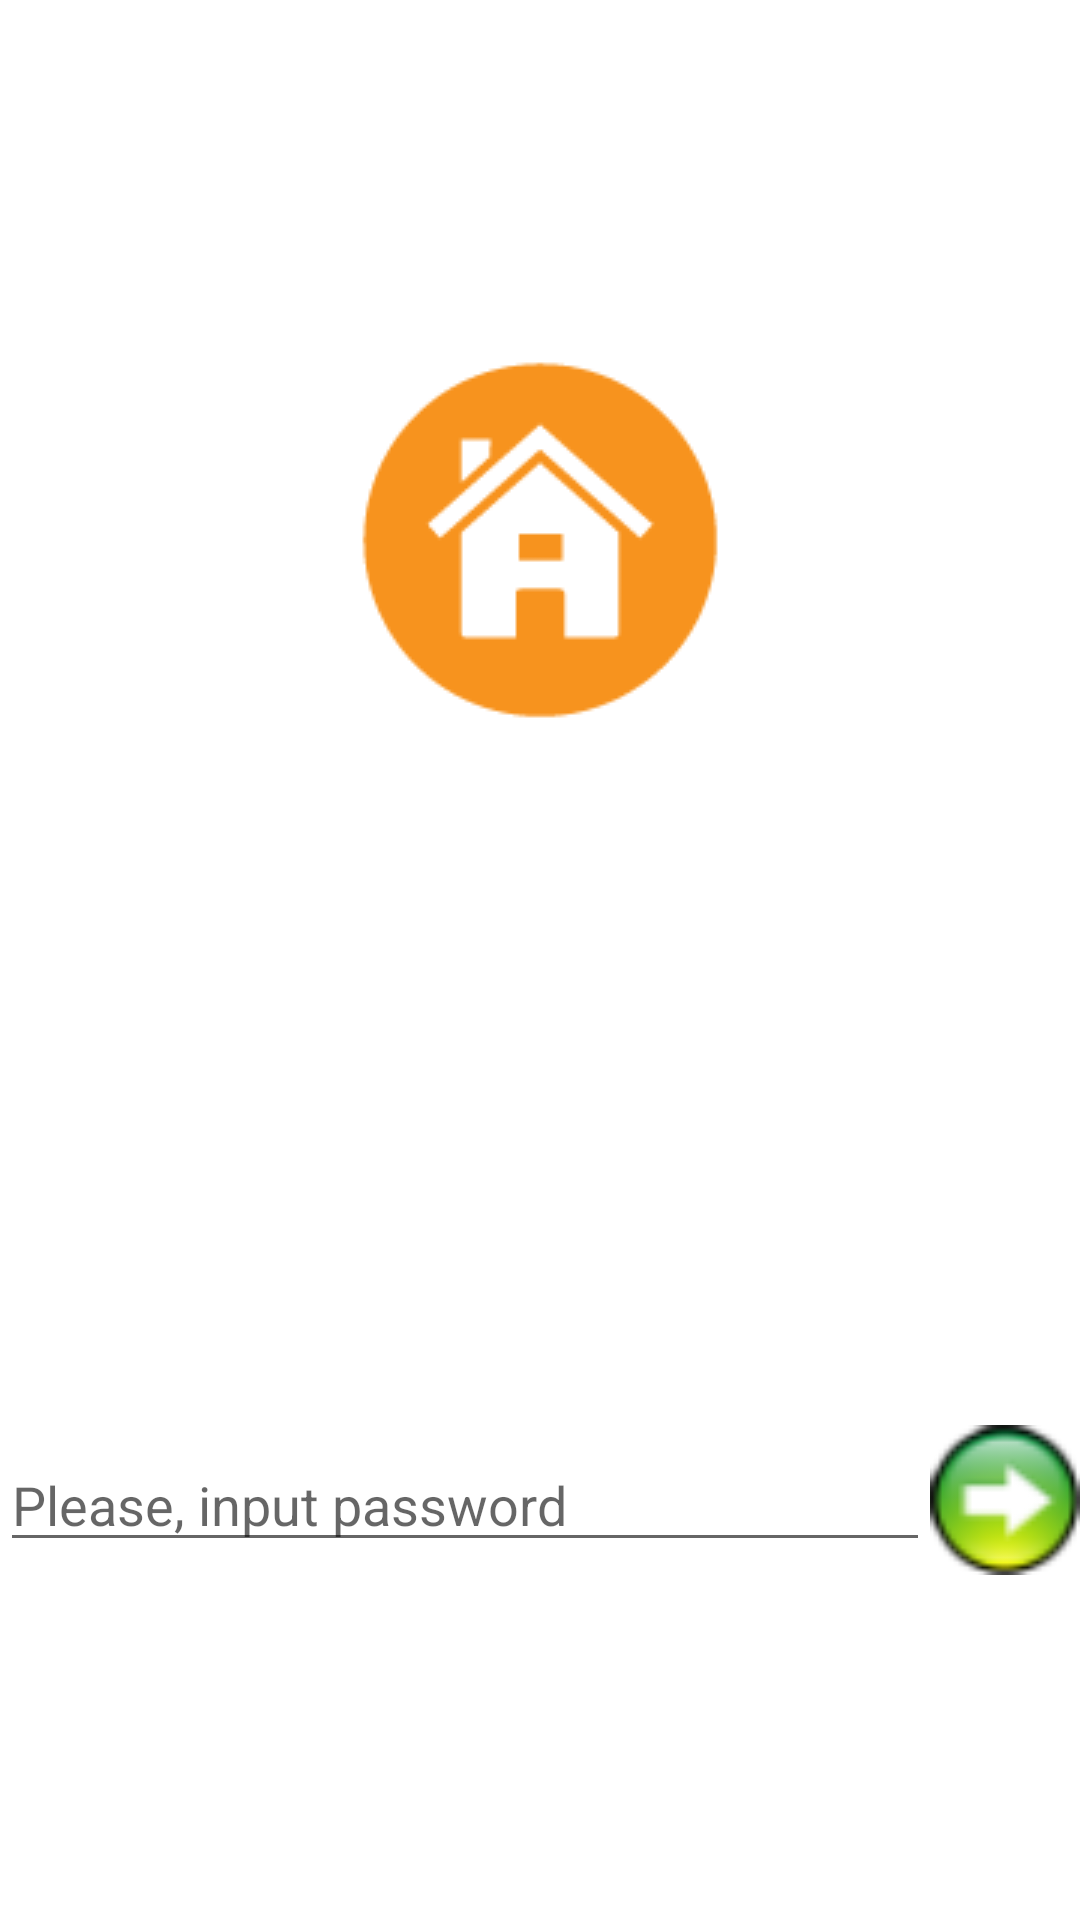

Where icons sit on this 1080px×1920px app screen, as (x1, y1, x2, y2):
enter: (930, 1425, 1080, 1575)
main: (362, 362, 718, 718)
